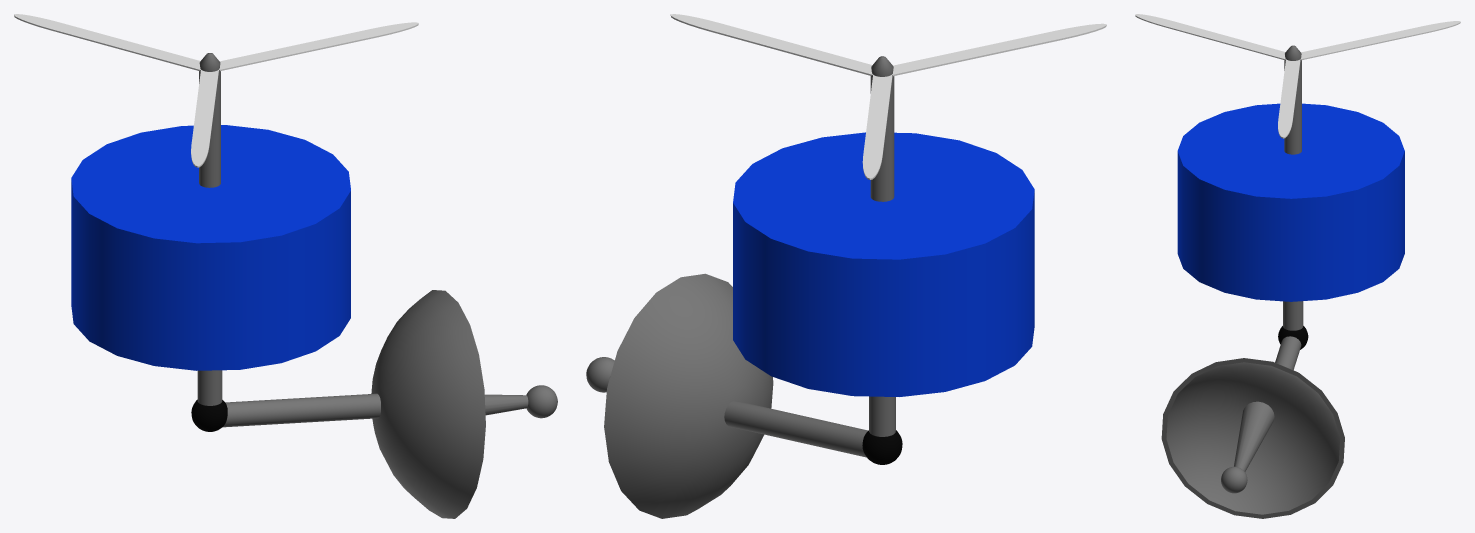
File: jamming_new _New.fbx
3 renders of one model, left to right at view 1: azimuth 30°, elevation 25°; view 2: azimuth 150°, elevation 25°; view 3: azimuth 270°, elevation 25°, orthographic. The views are drawn at different scales.
Parts seen in each view (by area): view 1: jamming, puropera; view 2: jamming, puropera; view 3: jamming, puropera.
Part boxes in pixels (left/top/right/bottom): jamming: left=71, top=53, right=557, bottom=518; puropera: left=14, top=14, right=418, bottom=167; jamming: left=586, top=56, right=1034, bottom=518; puropera: left=670, top=14, right=1106, bottom=179; jamming: left=1161, top=45, right=1404, bottom=518; puropera: left=1135, top=14, right=1460, bottom=138.
Bounding box in the file's own units: 1.59 × 1.72 × 1.29.
